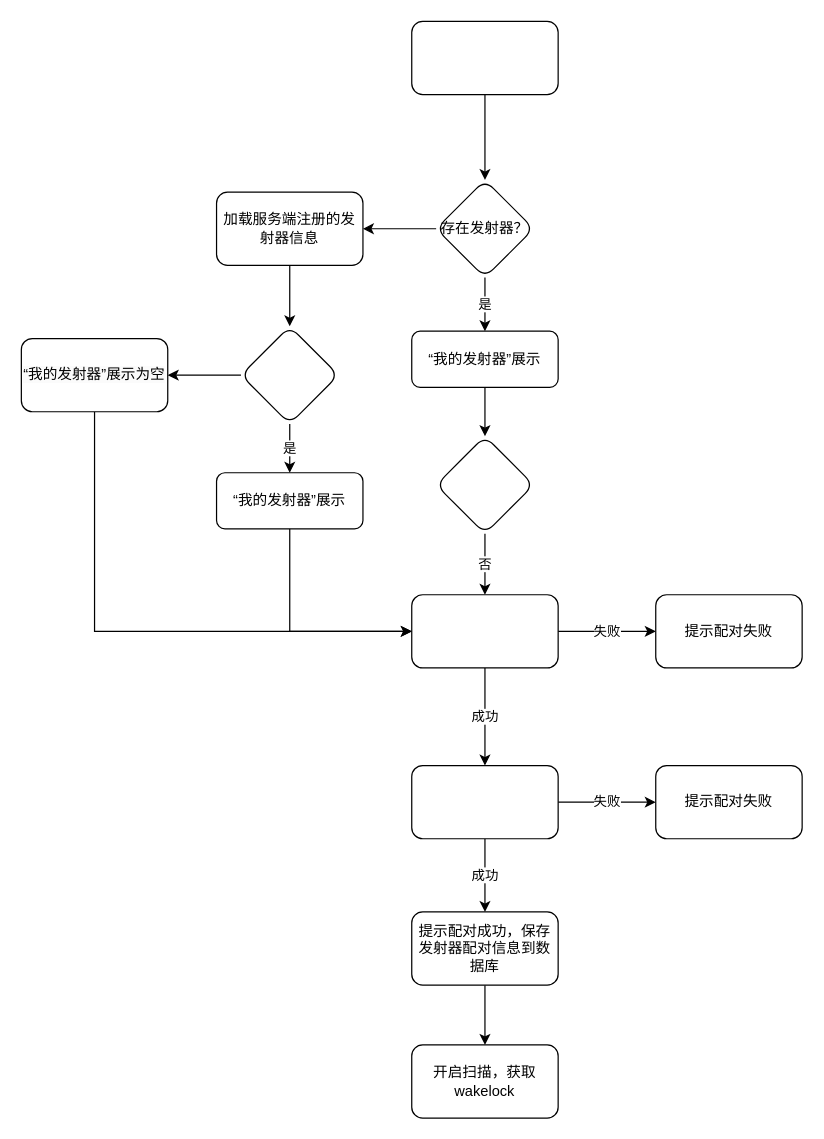
Some shapes in this 824 by 1139 pixel diagram are drawn without their labels. Here are the shapes that lost their labels. From the top down, the centre of each, then its label:
(x=484, y=57): 加载本地发射器信息
(x=289, y=374): 云端存在发射器
(x=484, y=484): 是否已经配对？
(x=484, y=631): 发射器配对
(x=484, y=801): 注册设备到云端
